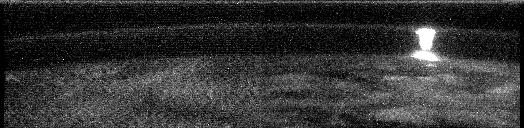positive: (414, 25, 438, 52)
